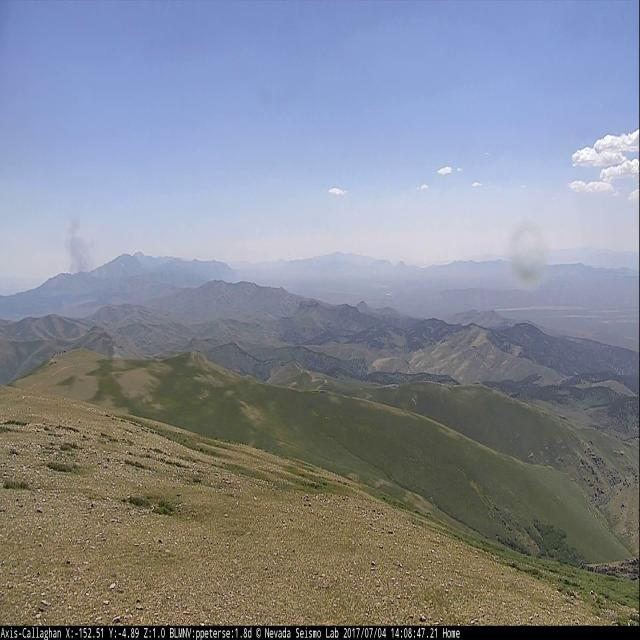smoke: (63, 212, 98, 274)
